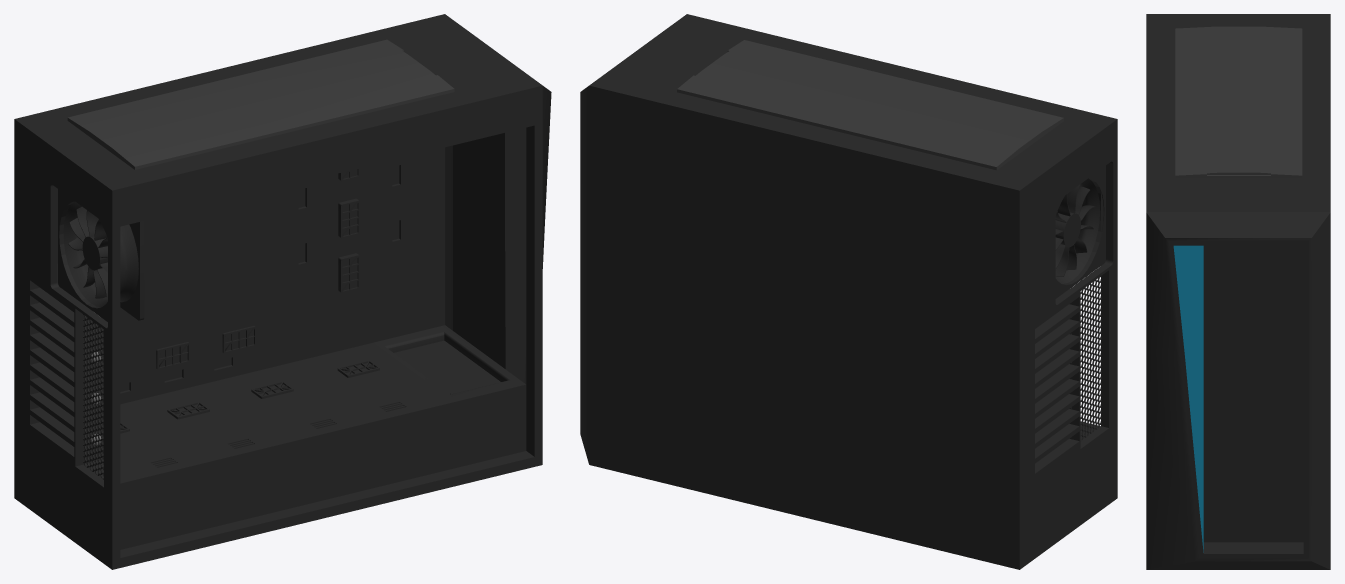
The model's file is 19_Server_Tower.glb.
3 renders of one model, left to right at view 1: azimuth 30°, elevation 25°; view 2: azimuth 150°, elevation 25°; view 3: azimuth 270°, elevation 25°, orthographic. The views are drawn at different scales.
Parts seen in each view (by area): view 1: Cube125, Cube125_3; view 2: Cube125, Cube125_3; view 3: Cube125, Cube125_3, Cube125_2.
Boxes of the visible parts, box(x1,y1,x2,y2) form: Cube125: box(14, 14, 551, 569); Cube125_3: box(67, 39, 454, 169); Cube125: box(580, 14, 1117, 569); Cube125_3: box(677, 40, 1063, 170); Cube125: box(1146, 14, 1330, 569); Cube125_3: box(1175, 26, 1302, 178); Cube125_2: box(1173, 245, 1203, 552).
Size of the model in its own units: 2.09 by 1.71 by 0.7873.
